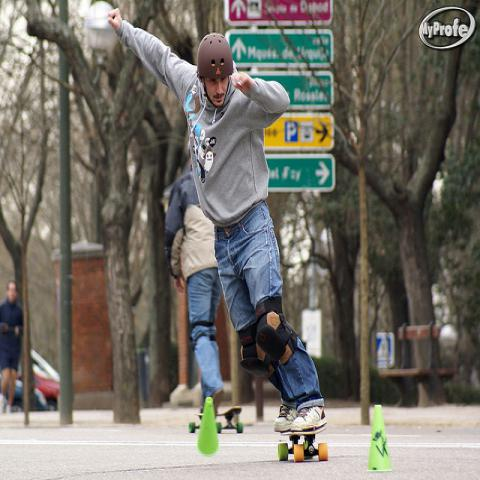car: (32, 362, 61, 410), (12, 379, 46, 412)
